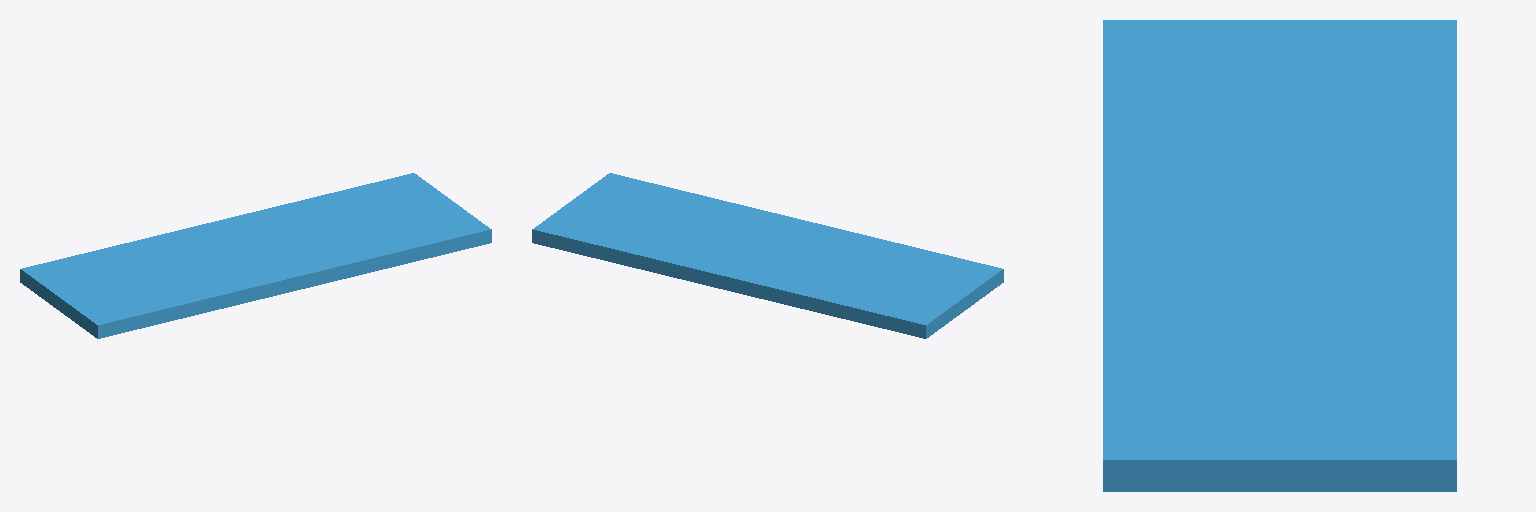
robot.urdf — cylinder_15:
    
    <robot name="cylinder_15">
        <link name="cylinder_15">    
            <fem>
                <origin rpy="0.0 0.0 0.0" xyz="0 0 0" />
                <density value="100" />
                <youngs value="701"/>
                <poissons value="0.3" />
                <damping value="0.0" />
                <attachDistance value="0.01" />
                <tetmesh filename="[local-path]/sim_data/Custom/Custom_mesh/multi_cylinder_1kPa/cylinder_15.tet" />
                <scale value="0.5"/>
            </fem>
        </link>

        <link name="fix_frame">
            <visual>
                <origin xyz="0.0 0.0 10.06163877255708"/>
                <geometry>
                    <box size="0.15 0.05099925085948598 0.005"/>
                </geometry>
            </visual>
            <collision>
                <origin xyz="0.0 0.0 0.06163877255708066"/>
                <geometry>
                    <box size="0.15 0.05099925085948598 0.005"/>
                </geometry>
            </collision>
            <inertial>
                <mass value="500000"/>
                <inertia ixx="0.05" ixy="0.0" ixz="0.0" iyy="0.05" iyz="0.0" izz="0.05"/>
            </inertial>
        </link>
        
        <joint name = "attach" type = "fixed">
            <origin xyz = "0.0 0.0 0.0" rpy = "0 0 0"/>
            <parent link ="cylinder_15"/>
            <child link = "fix_frame"/>
        </joint>  




    </robot>
    

--- Facts derived from the render (not from the file) ---
The picture shows the robot from 3 angles, left to right: view 1: azimuth 30°, elevation 25°; view 2: azimuth 150°, elevation 25°; view 3: azimuth 270°, elevation 25°; orthographic projection.
Model cylinder_15 with 2 links and 1 joints (1 fixed), rooted at cylinder_15, posed all joints at 0.
Visible links, largest first — view 1: fix_frame; view 2: fix_frame; view 3: fix_frame.
Link boxes in pixels (left/top/right/bottom): fix_frame: left=20, top=173, right=491, bottom=338; fix_frame: left=532, top=173, right=1003, bottom=338; fix_frame: left=1103, top=20, right=1456, bottom=491.
Size in the robot's own frame: 0.15 by 0.051 by 0.005 metres.
Geometry: primitives only (box / cylinder / sphere), no mesh files.
